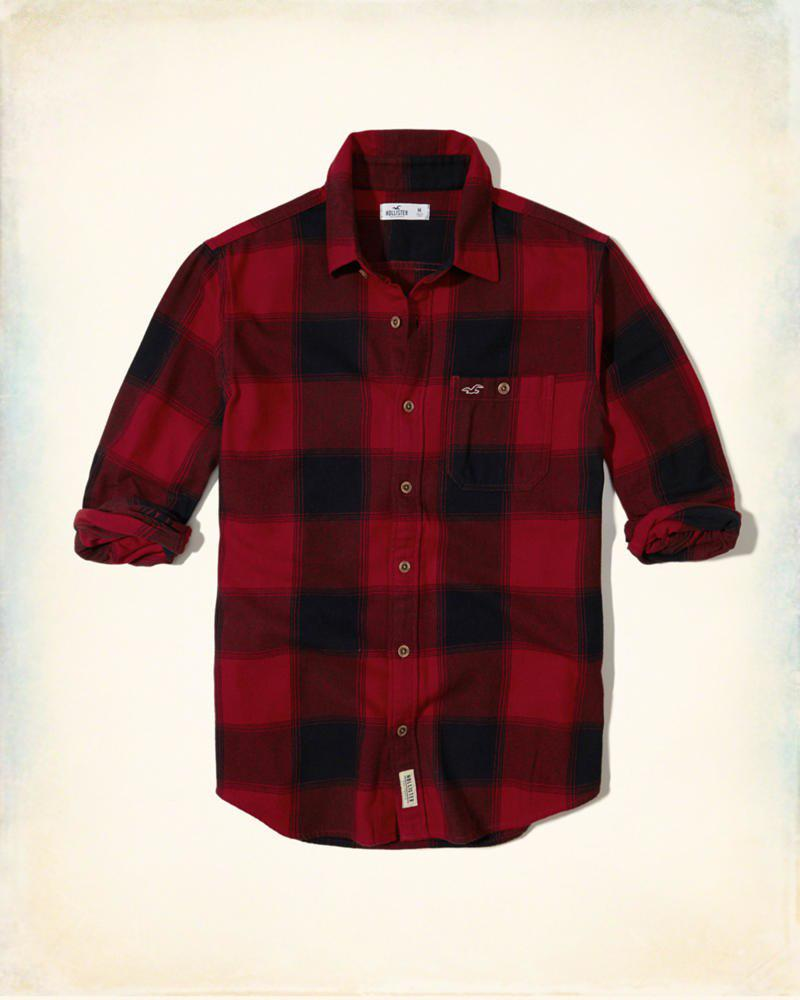teeshirt: (59, 121, 749, 872)
